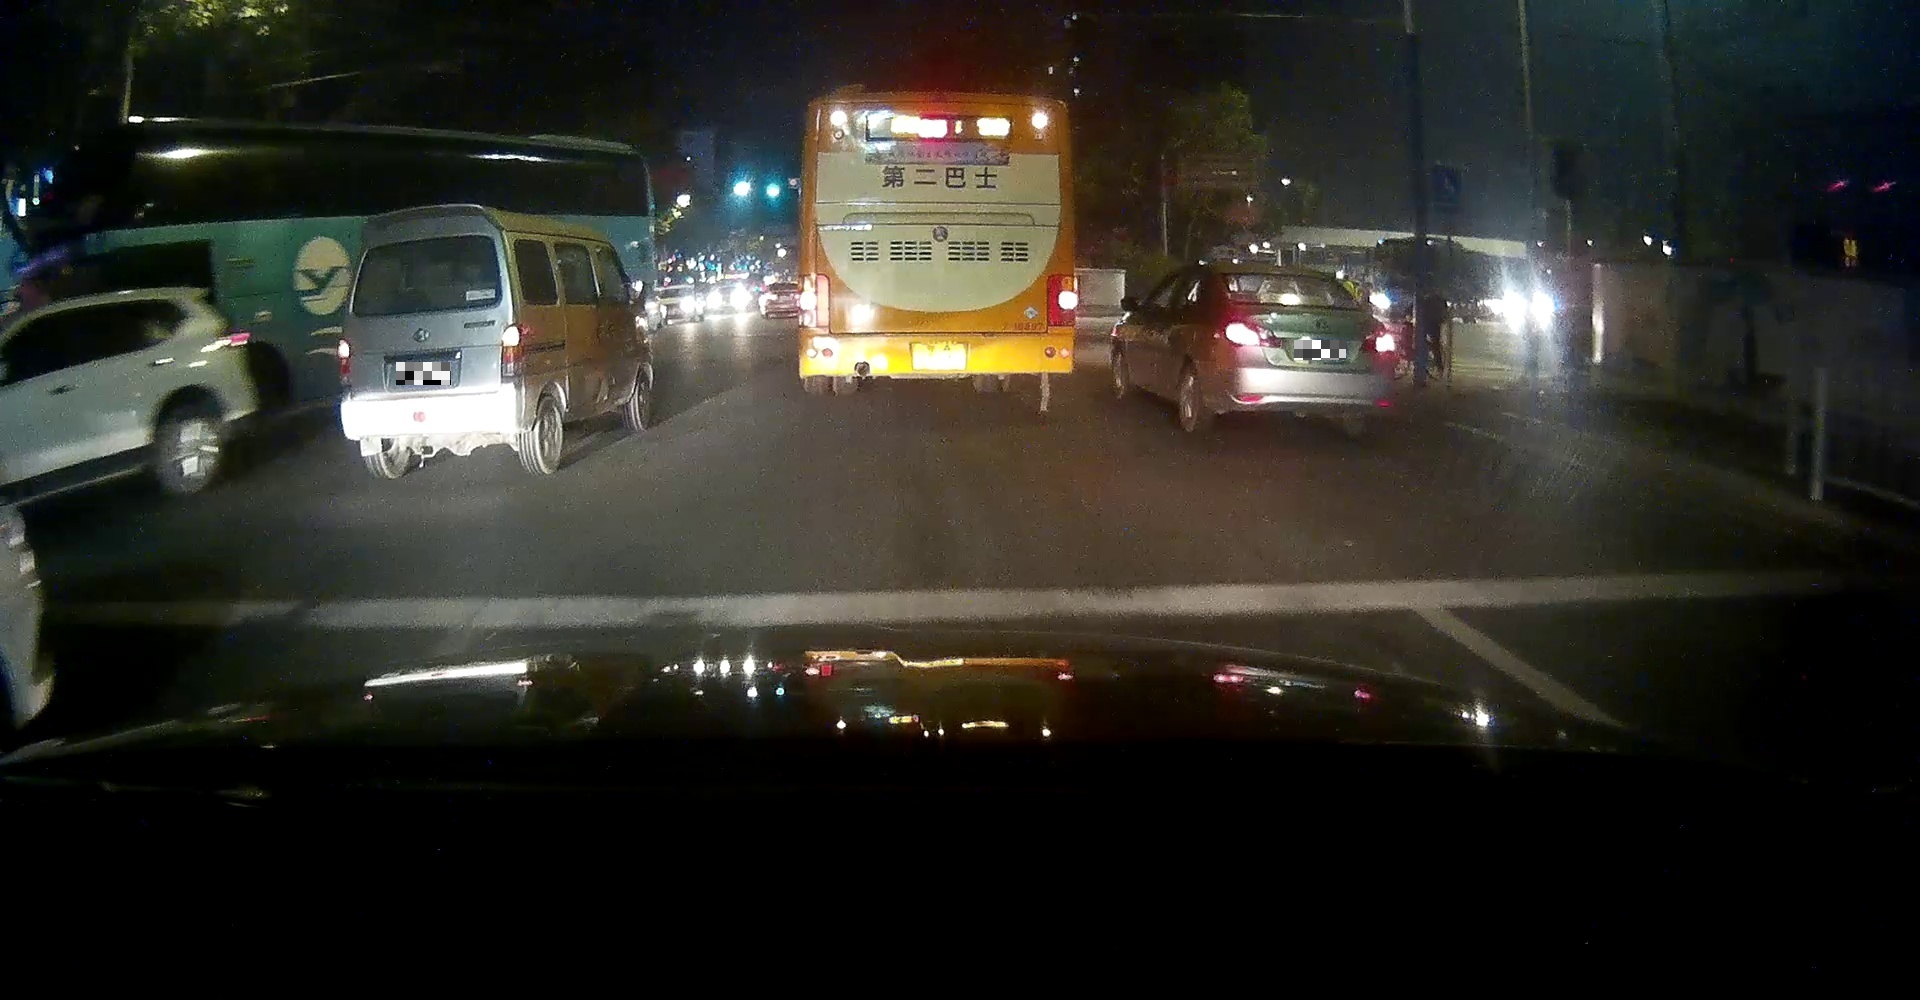L_light: (796, 273, 829, 329), (1359, 325, 1396, 353), (338, 338, 352, 388)
R_light: (1048, 273, 1078, 325), (499, 324, 524, 382), (1277, 275, 1297, 283)
T_light: (1224, 319, 1281, 348), (921, 107, 955, 119), (408, 240, 438, 247)
night-no: (796, 82, 1078, 395), (337, 204, 532, 478), (1213, 260, 1396, 437)
plate_1: (396, 362, 451, 385)
plate_2: (1294, 340, 1346, 360)
